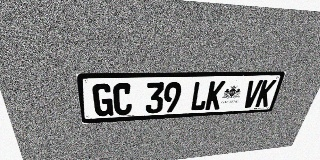3: (145, 82, 165, 114)
9: (162, 82, 182, 113)
C: (113, 83, 132, 116)
G: (92, 83, 113, 117)
K: (205, 81, 226, 110), (255, 80, 277, 107)
L: (189, 81, 210, 111)
V: (241, 80, 263, 108)
